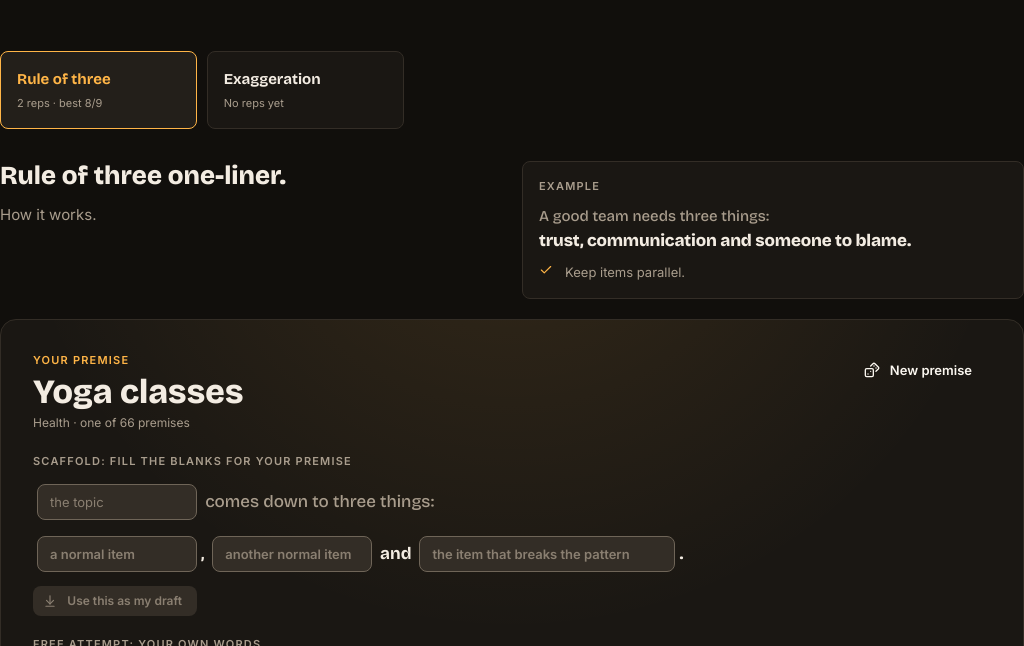
Test: scaffold, free attempt, checklist, then model answers on request
The image size is (1024, 646).
Expected: the text with test id "premise" reads "Yoga classes", [33,371,243,412]
Expected: the text "2 reps · best 8/9" is shown, [17,96,102,110]
Type "Yoga" into the field labelled "the topic" at (117, 502), box [37,484,197,520]
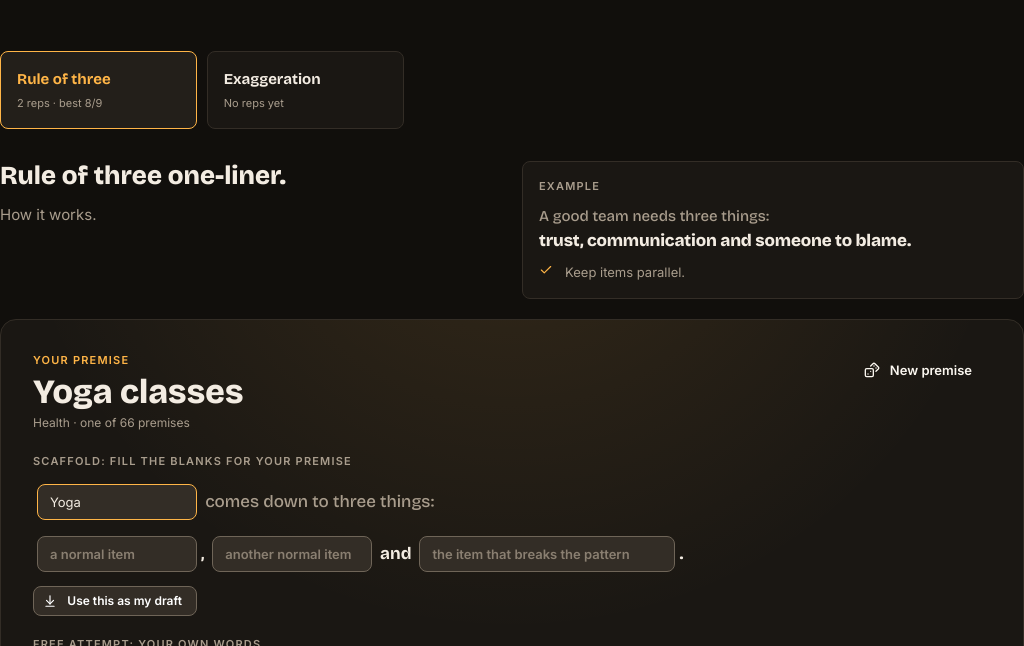
Type "naps" into the field labelled "the item that breaks the pattern" at (547, 554), box [419,536,675,572]
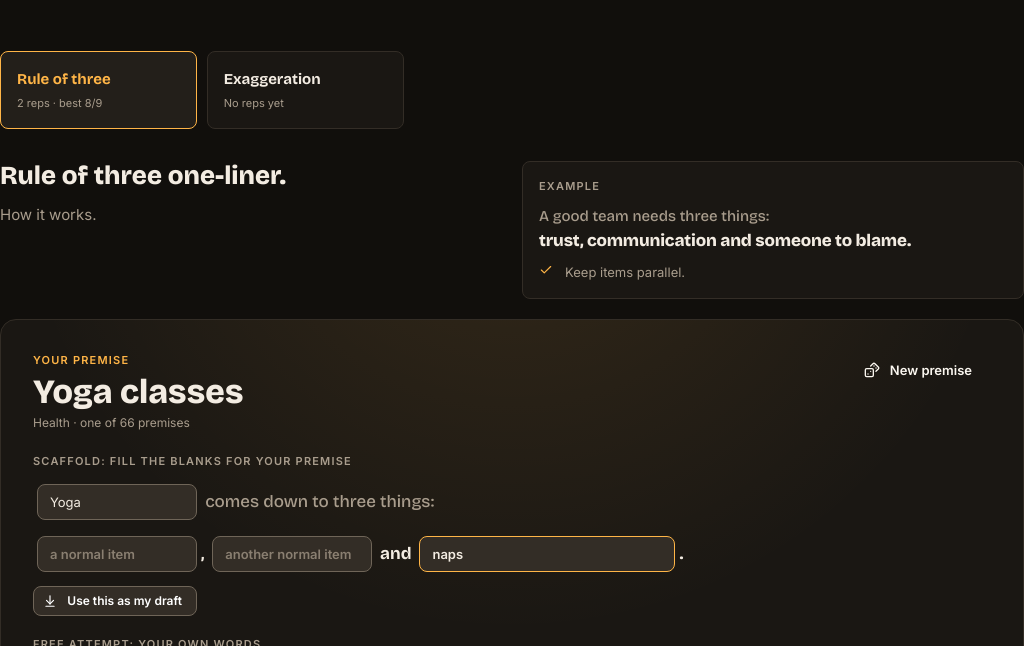
Click the button "Use this as my draft" at (115, 601), box [33,586,197,616]
(page scrolled)
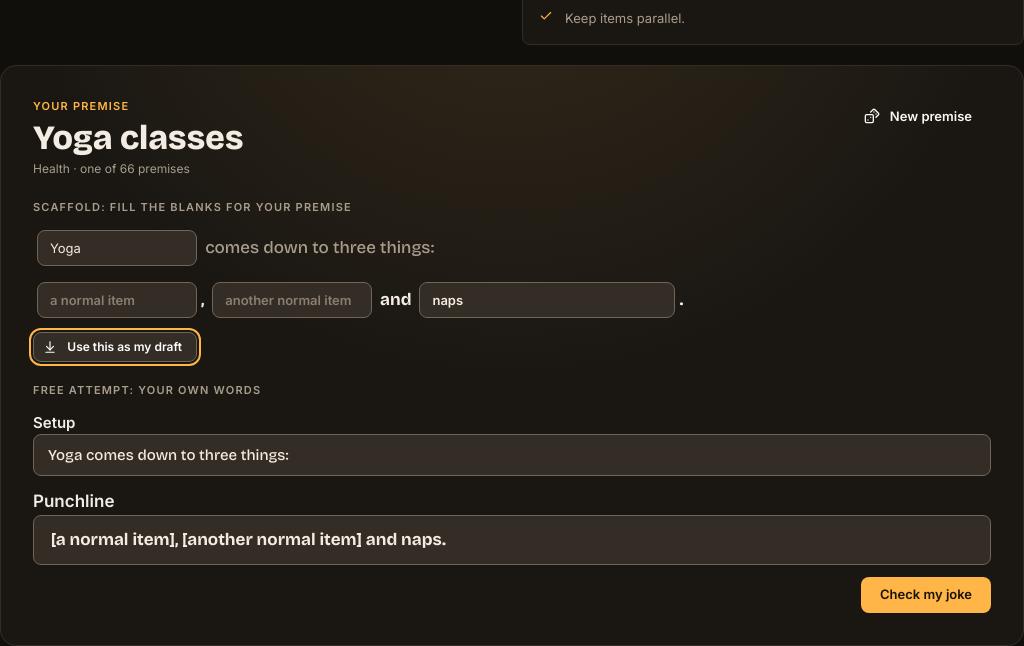
Expected: the field labelled "Setup" holds "Yoga comes down to three things:", [33,434,991,476]
Replace the text in the field labelled "Punchline" with "stretching, breathing and a nap." at (512, 540), box [33,515,991,565]
Then press Enter
(page scrolled)
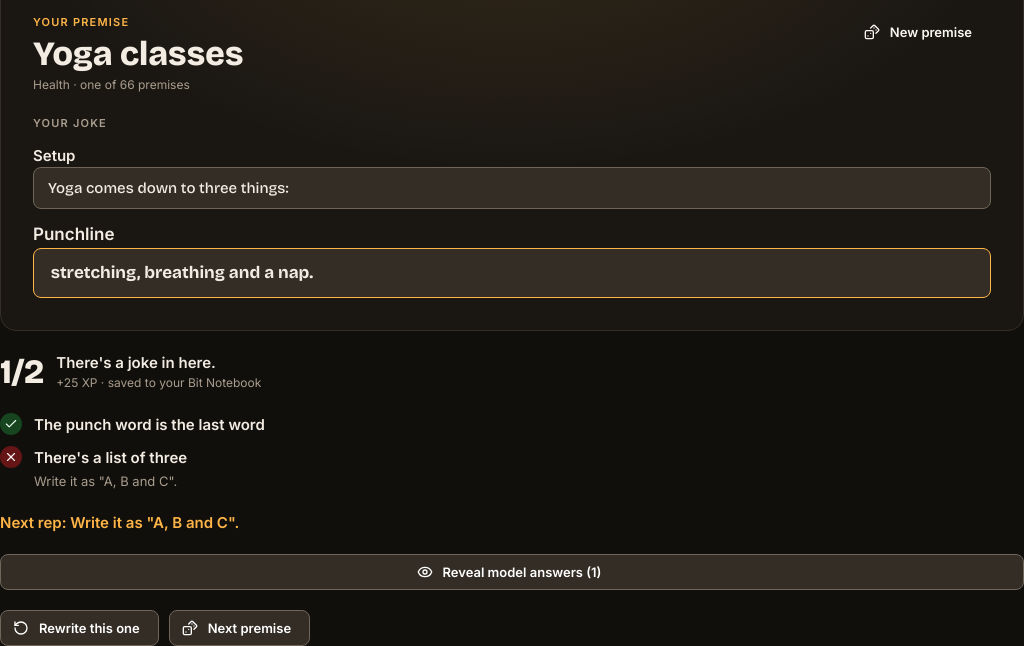
Expected: the element with test id "gym-feedback" is shown, [0,351,1023,645]
Expected: the text "There's a list of three" is shown, [34,446,187,469]
Expected: the text "+25 XP · saved to your Bit Notebook" is shown, [56,374,261,392]
Click the button "Reveal model answers (1)" at (512, 572), box [0,554,1023,590]
(page scrolled)
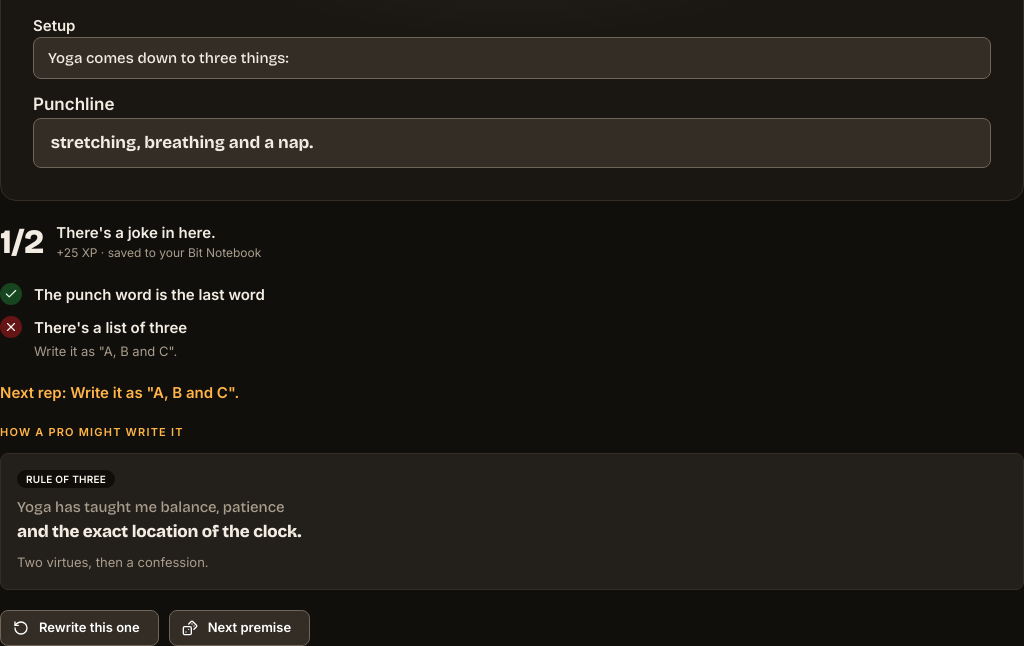
Expected: the text "Two virtues, then a confession." is shown, [17,554,209,570]
